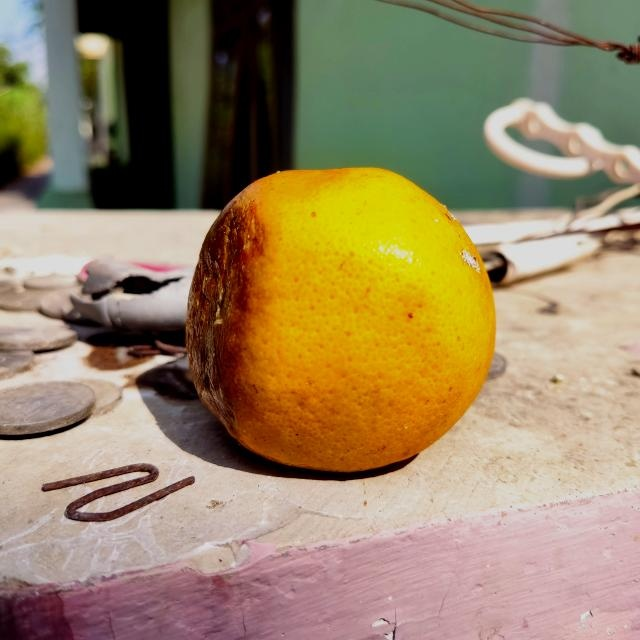agrume: (187, 162, 497, 470)
